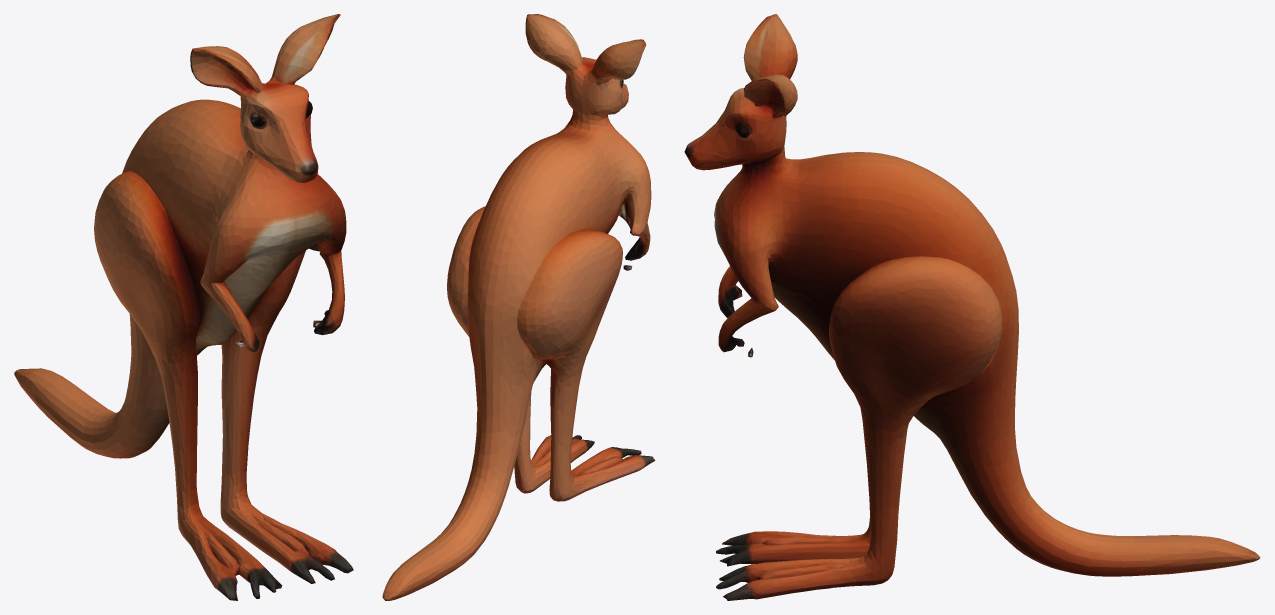
Rendered from red_kangaroo.glb.
The picture shows the model from 3 angles, left to right: view 1: azimuth 30°, elevation 25°; view 2: azimuth 150°, elevation 25°; view 3: azimuth 270°, elevation 25°; orthographic projection. The views are drawn at different scales.
Parts seen in each view (by area): view 1: geometry_0; view 2: geometry_0; view 3: geometry_0.
Part boxes in pixels (x1,y1,x2,y2): geometry_0: (14, 14, 353, 600); geometry_0: (382, 14, 655, 600); geometry_0: (684, 14, 1260, 600).
Bounding box in the file's own units: 0.3294 × 0.9993 × 0.9926.
Materials: 1 (1 with a texture image).
